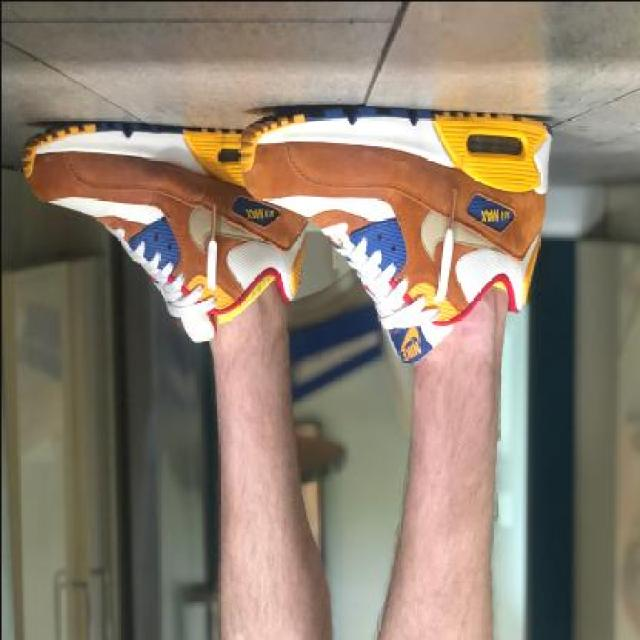shoe: (247, 98, 554, 315), (19, 123, 300, 326)
